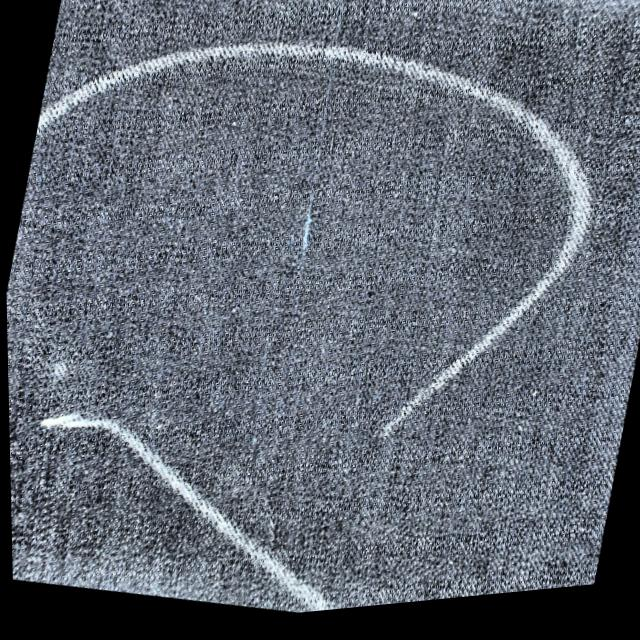Hole: (255, 190, 340, 277)
